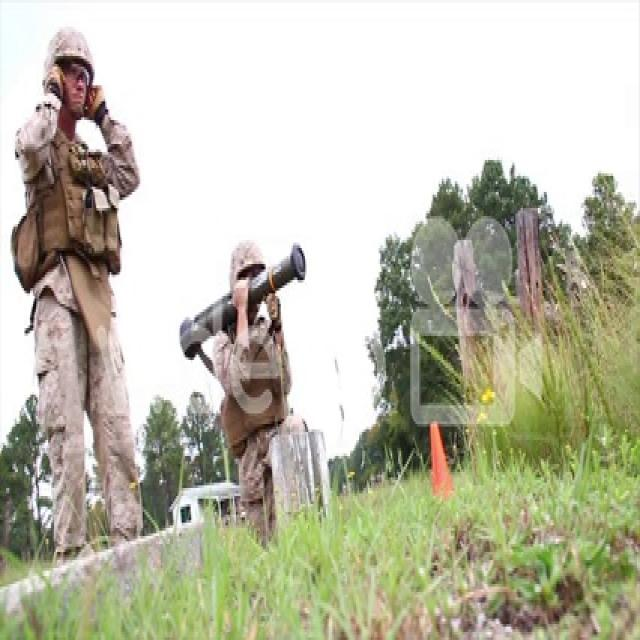bazooka: (179, 235, 312, 369)
